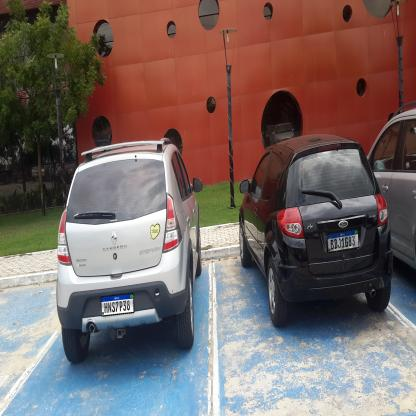PlacaM: (101, 292, 134, 316), (327, 229, 359, 253)
